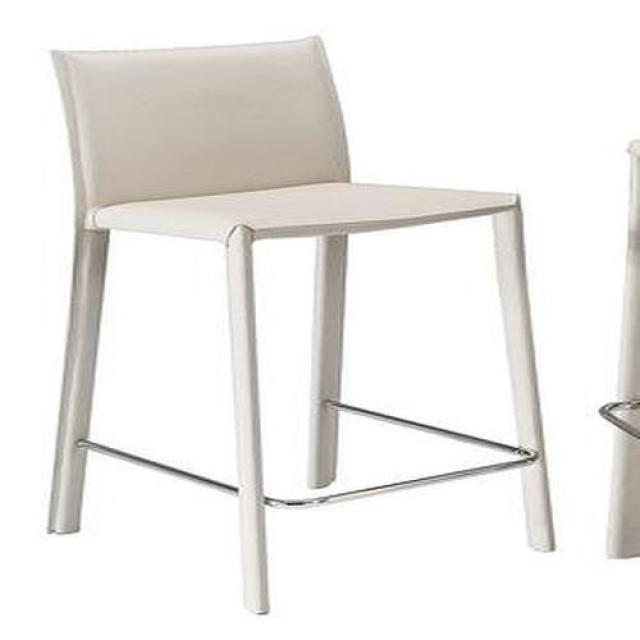chair: (46, 35, 556, 617)
